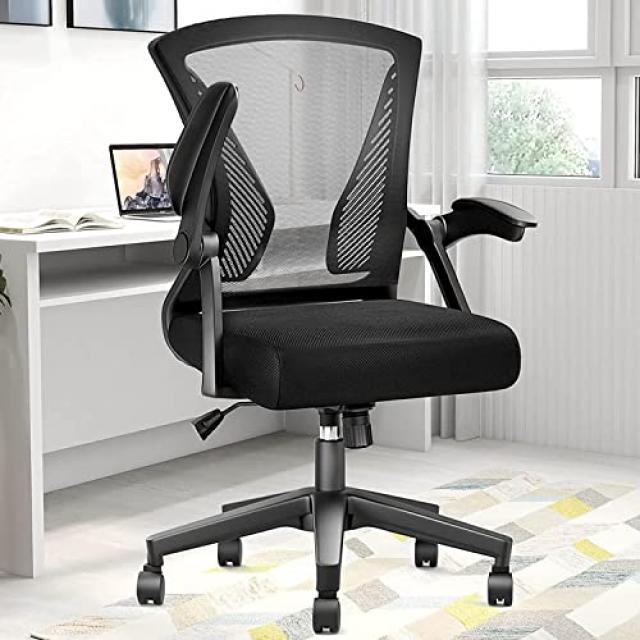chair: (101, 9, 555, 640)
table: (0, 188, 464, 573)
